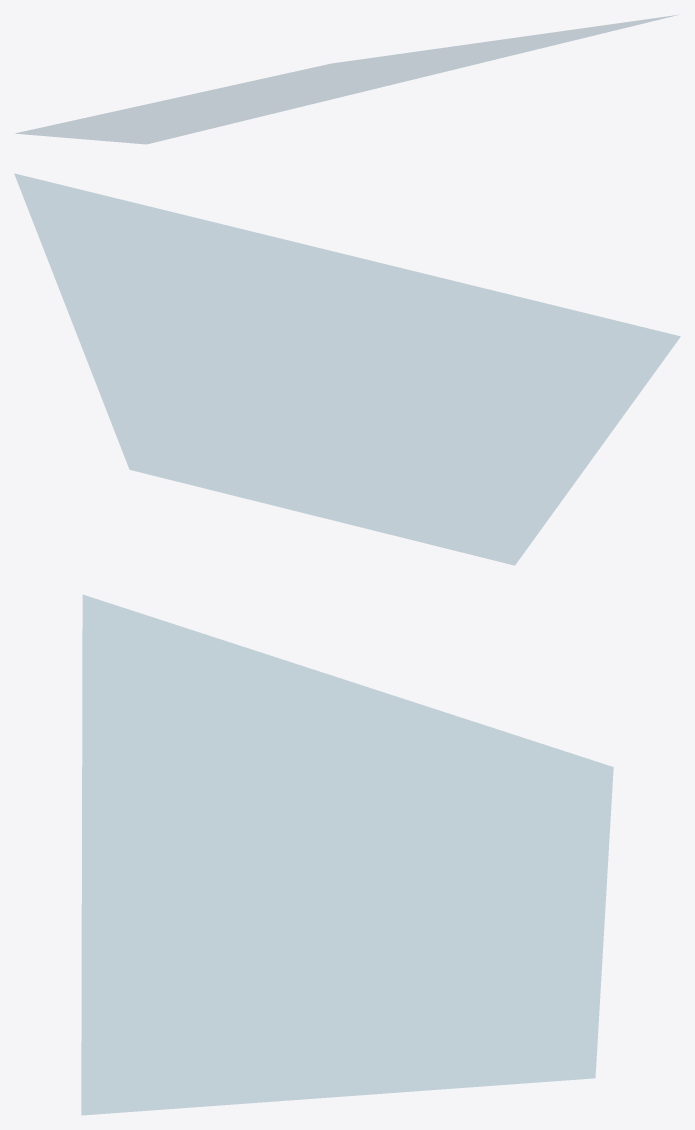
File: Bridge_Glass_07.fbx
3 renders of one model, top to bottom at view 1: azimuth 30°, elevation 25°; view 2: azimuth 150°, elevation 25°; view 3: azimuth 270°, elevation 25°, orthographic. The views are drawn at different scales.
Visible parts, largest first — view 1: Bridge; view 2: Bridge; view 3: Bridge.
Part boxes in pixels (x1,y1,x2,y2): Bridge: (16,15,676,143); Bridge: (14,173,680,565); Bridge: (81,595,613,1114).
Bounding box in the file's own units: 2724 × 435 × 1176.
